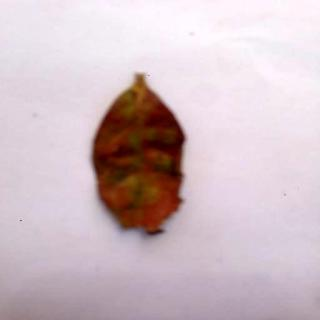Algal Leaf: (96, 72, 186, 234)
